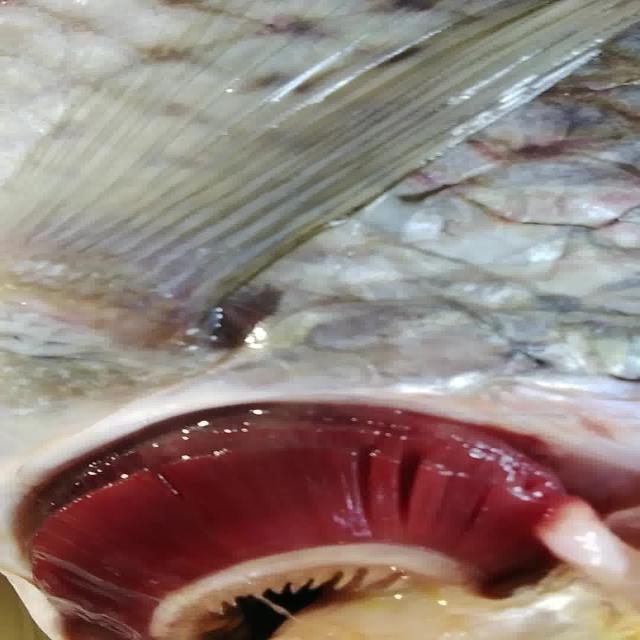Fresh: (77, 389, 640, 621)
